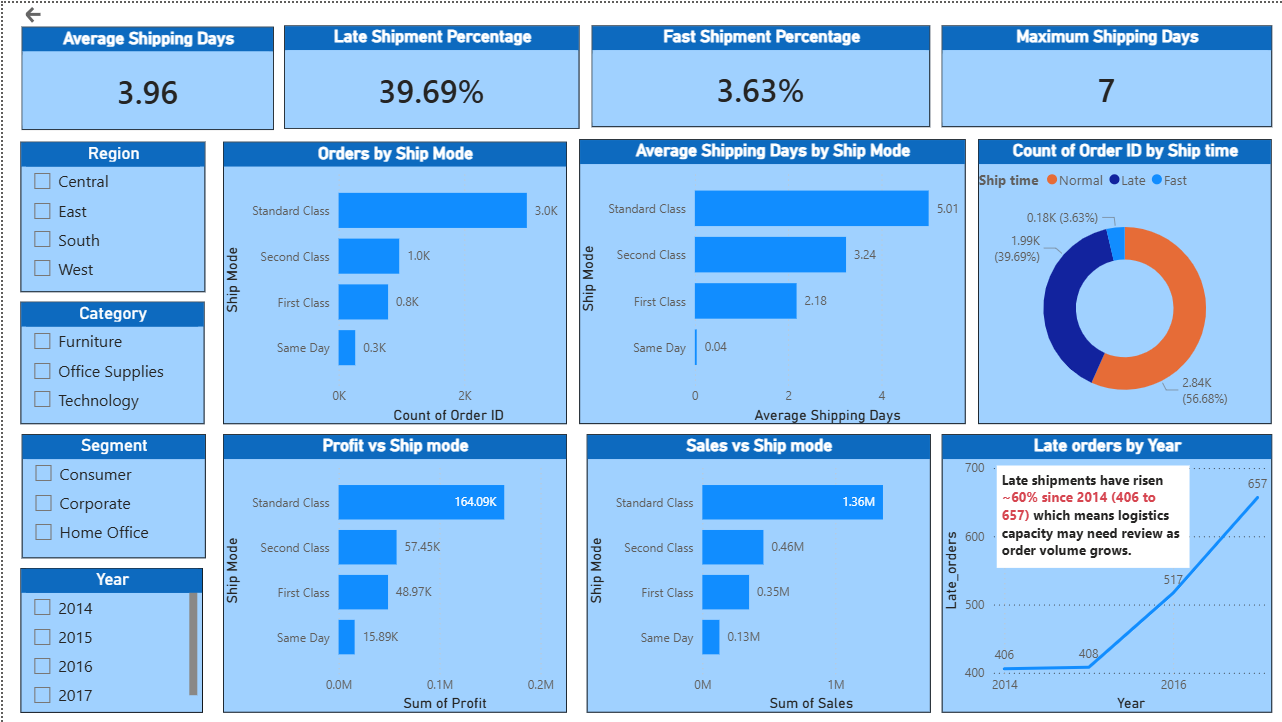

The dashboard page shown, as its layout file describes it:
{"tool":"powerbi","page":{"name":"Page 5","canvas":[1280,720],"ordinal":4},"visuals":[{"type":"cardVisual","title":"Average Shipping Days","fields":{"Data":["Superstore_cleaned_2.Average Shipping Days"]},"box":[18.9,23.3,252.2,103.3],"z":0},{"type":"slicer","title":"Region","fields":{"Values":["Superstore_cleaned_2.Region"]},"box":[17.5,138.8,185,150],"z":1000},{"type":"slicer","title":"Segment","fields":{"Values":["Superstore_cleaned_2.Segment"]},"box":[18.8,431.2,183.8,123.8],"z":2000},{"type":"slicer","title":"Category","fields":{"Values":["Superstore_cleaned_2.Category"]},"box":[17.5,298.8,183.8,122.5],"z":3000},{"type":"slicer","title":"Year","fields":{"Values":["Superstore_cleaned_2.Year"]},"box":[17.5,565,182.5,145],"z":4000},{"type":"textbox","box":[825,505,102.5,60],"z":5000},{"type":"cardVisual","title":"Fast Shipment Percentage","fields":{"Data":["Superstore_cleaned_2.%Fast_shipment"]},"box":[588.8,22.5,338.8,101.2],"z":6000},{"type":"cardVisual","title":"Late Shipment Percentage","fields":{"Data":["Superstore_cleaned_2.%Late_shipment"]},"box":[281.1,22.2,295.6,103.3],"z":7000},{"type":"cardVisual","title":"Maximum Shipping Days","fields":{"Data":["Superstore_cleaned_2.Max Shipping Days"]},"box":[938.8,22.5,330,101.2],"z":8000},{"type":"barChart","title":"Average Shipping Days by Ship Mode","fields":{"Y":["Superstore_cleaned_2.Average Shipping Days"],"Category":["Superstore_cleaned_2.Ship Mode"]},"box":[576.2,136.2,386.2,285],"z":9000},{"type":"barChart","title":"Orders by Ship Mode","fields":{"Category":["Superstore_cleaned_2.Ship Mode"],"Y":["Count(Superstore_cleaned_2.Order ID)"]},"box":[220,138.8,343.8,282.5],"z":10000},{"type":"donutChart","fields":{"Category":["Superstore_cleaned_2.Ship time"],"Y":["Count(Superstore_cleaned_2.Order ID)"]},"box":[975,136.2,293.8,285],"z":11000},{"type":"barChart","title":"Profit vs Ship mode","fields":{"Category":["Superstore_cleaned_2.Ship Mode"],"Y":["Sum(Superstore_cleaned_2.Profit)"]},"box":[220,431.2,343.8,278.8],"z":12000},{"type":"barChart","title":"Sales vs Ship mode","fields":{"Category":["Superstore_cleaned_2.Ship Mode"],"Y":["Sum(Superstore_cleaned_2.Sales)"]},"box":[583.8,431.2,343.8,278.8],"z":13000},{"type":"lineChart","title":"Late orders by Year","fields":{"Y":["Superstore_cleaned_2.Late_orders"],"Category":["Superstore_cleaned_2.Year"]},"box":[938.8,431.2,330,278.8],"z":14000},{"type":"textbox","box":[993.8,462.5,192.5,102.5],"z":15000},{"type":"actionButton","box":[18.8,0,92.5,23.8],"z":16000}]}

Visuals, with their boxes in screenshot pixels (x1, y1, x2, y2), scaled from the page's 1280x720 canvas onto the 1282x722 screenshot:
"Average Shipping Days" cardVisual: 19/23/272/127
"Region" slicer: 18/139/203/290
"Segment" slicer: 19/432/203/557
"Category" slicer: 18/300/202/422
"Year" slicer: 18/567/200/712
textbox: 826/506/929/567
"Fast Shipment Percentage" cardVisual: 590/23/929/124
"Late Shipment Percentage" cardVisual: 282/22/578/126
"Maximum Shipping Days" cardVisual: 940/23/1271/124
"Average Shipping Days by Ship Mode" barChart: 577/137/964/422
"Orders by Ship Mode" barChart: 220/139/565/422
donutChart - Superstore_cleaned_2.Ship time x Count(Superstore_cleaned_2.Order ID): 977/137/1271/422
"Profit vs Ship mode" barChart: 220/432/565/712
"Sales vs Ship mode" barChart: 585/432/929/712
"Late orders by Year" lineChart: 940/432/1271/712
textbox: 995/464/1188/567
actionButton: 19/0/111/24
